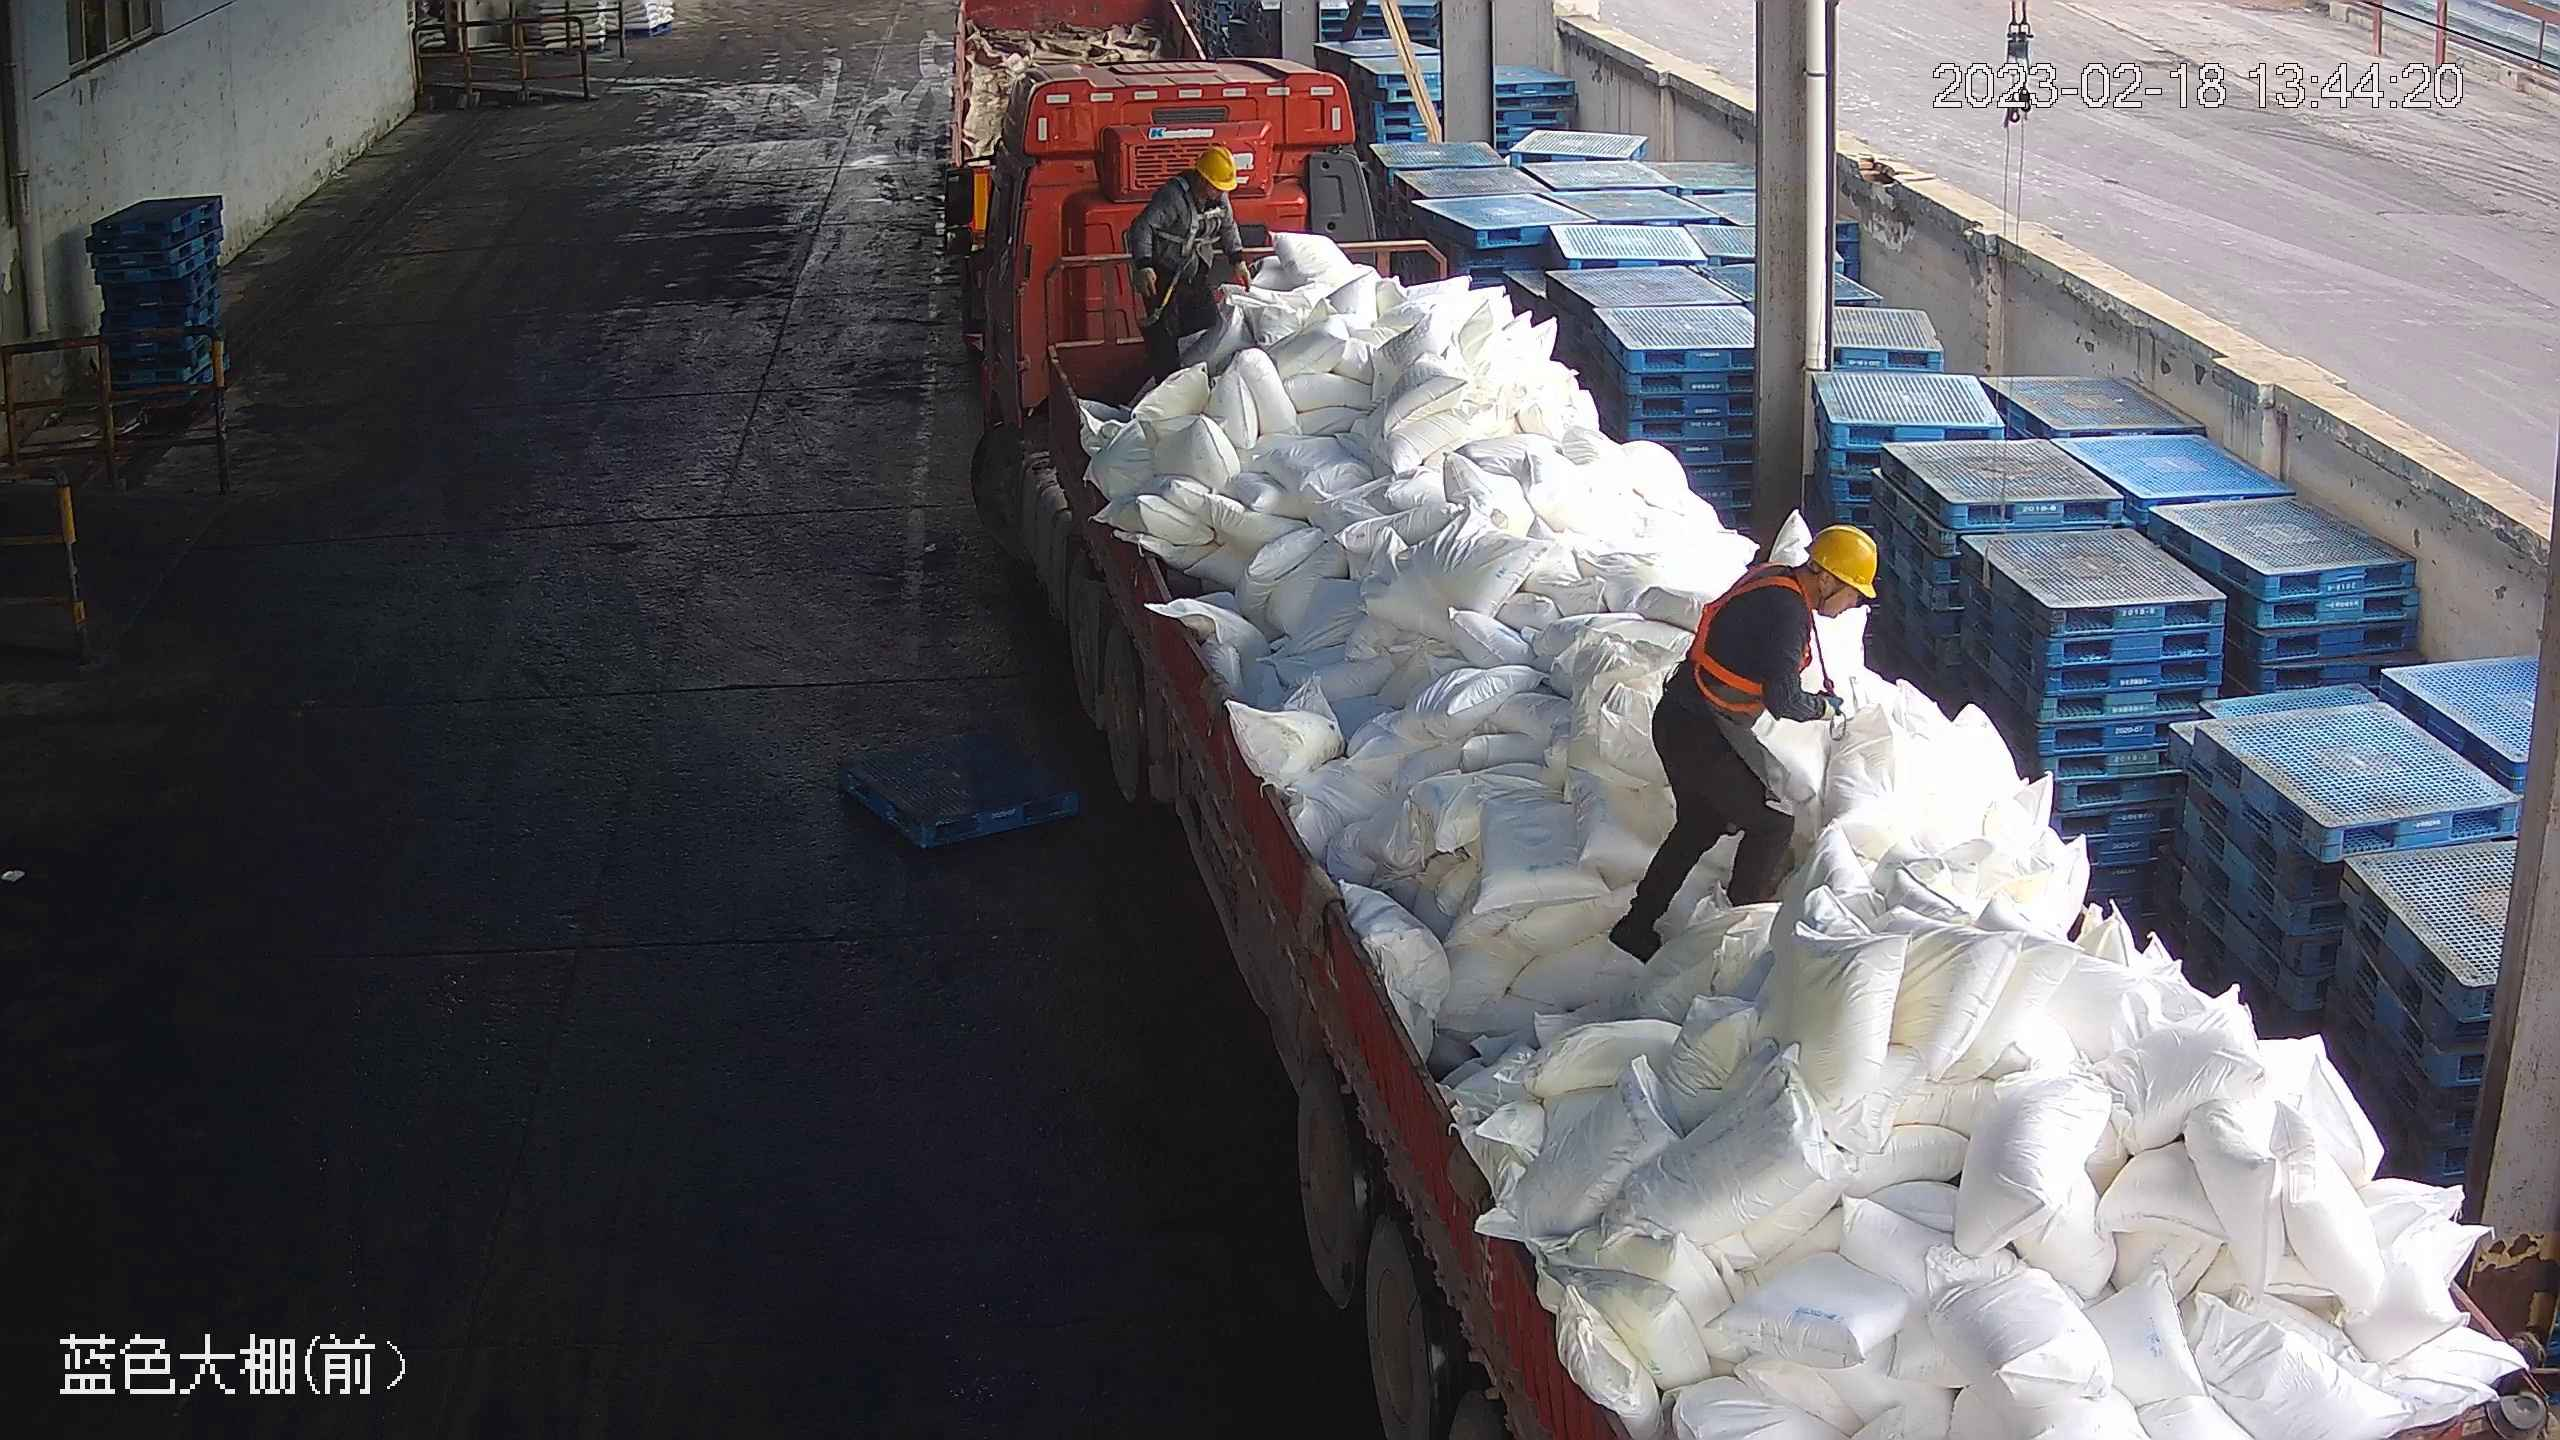belt: (1675, 549, 1810, 713), (1159, 173, 1231, 256)
head: (1721, 520, 1882, 674), (1146, 144, 1243, 235)
helmet: (1806, 522, 1878, 594), (1193, 144, 1242, 191)
people: (1609, 519, 1879, 961), (1118, 142, 1249, 397)
truck: (932, 36, 2560, 1440)
